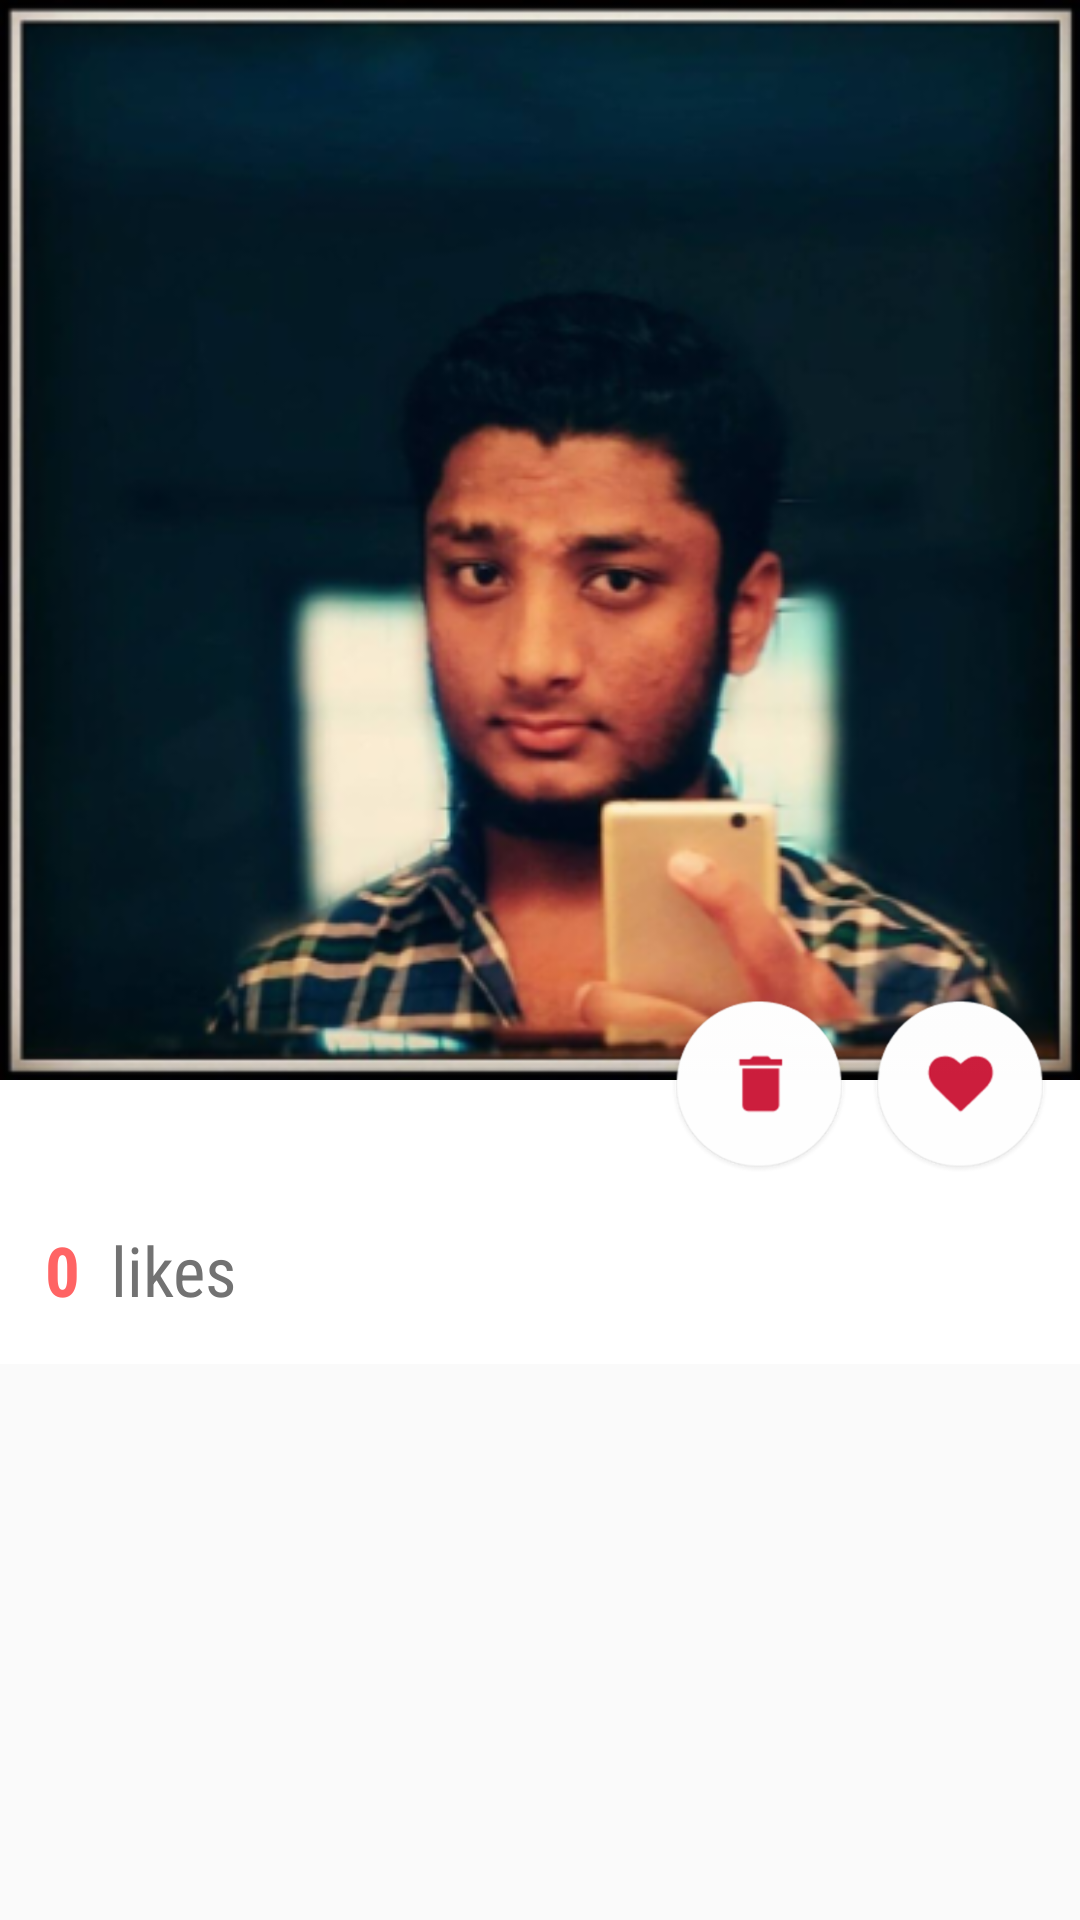

Where to tap for icons on this 1080px x 1920px app screen, as point (x, y):
delete: point (759, 1085)
likeempty: point (960, 1085)
